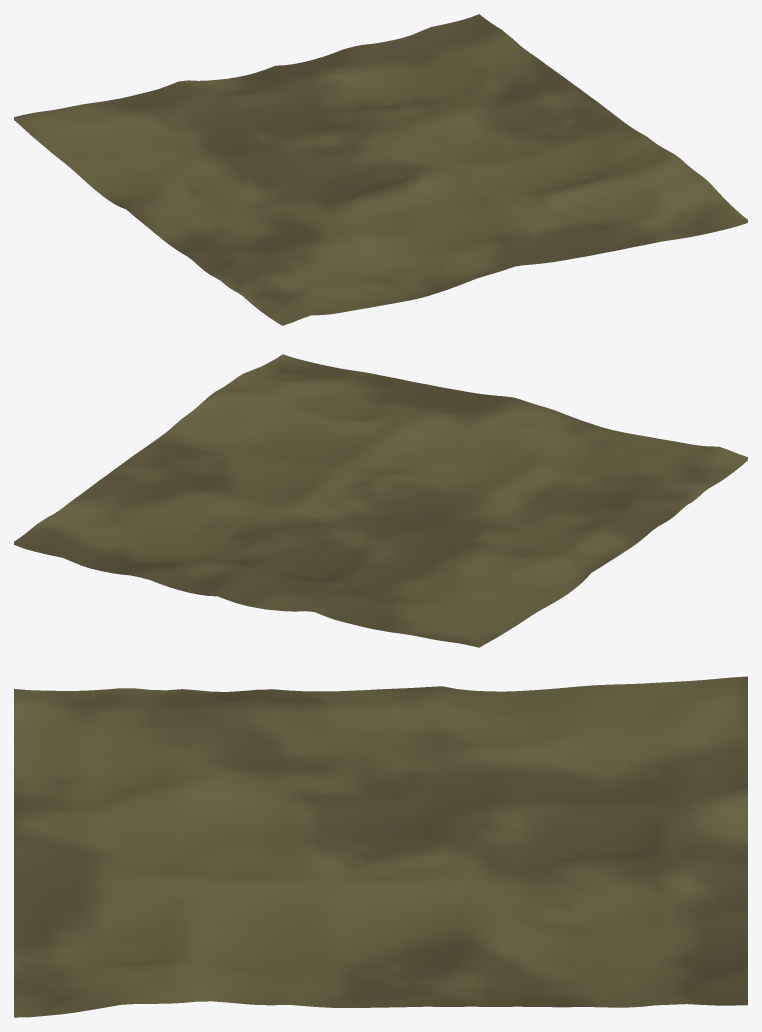
File: land_m_03_00.glb
3 renders of one model, top to bottom at view 1: azimuth 30°, elevation 25°; view 2: azimuth 150°, elevation 25°; view 3: azimuth 270°, elevation 25°, orthographic. The views are drawn at different scales.
Visible parts, largest first — view 1: land_m_03_00; view 2: land_m_03_00; view 3: land_m_03_00.
Boxes of the visible parts, x1=… form: land_m_03_00: x1=14, y1=14, x2=747, y2=325; land_m_03_00: x1=14, y1=354, x2=747, y2=647; land_m_03_00: x1=14, y1=676, x2=747, y2=1017.
Size of the model in its own units: 960 by 46.85 by 960.
